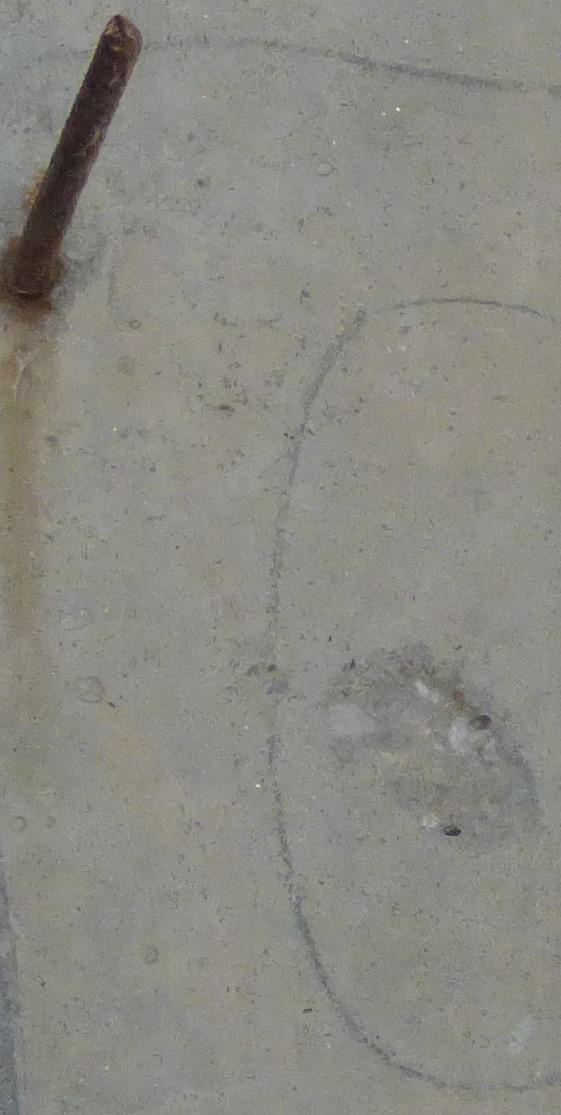Exposed reinforcement: (10, 13, 144, 296)
Spalling: (329, 640, 536, 854)
